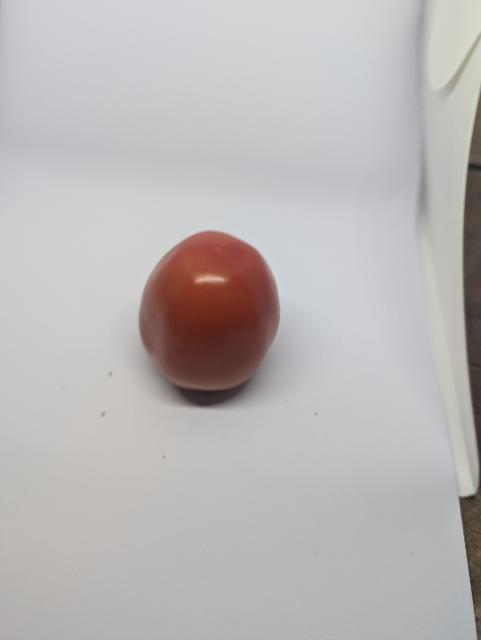red: (137, 229, 284, 394)
